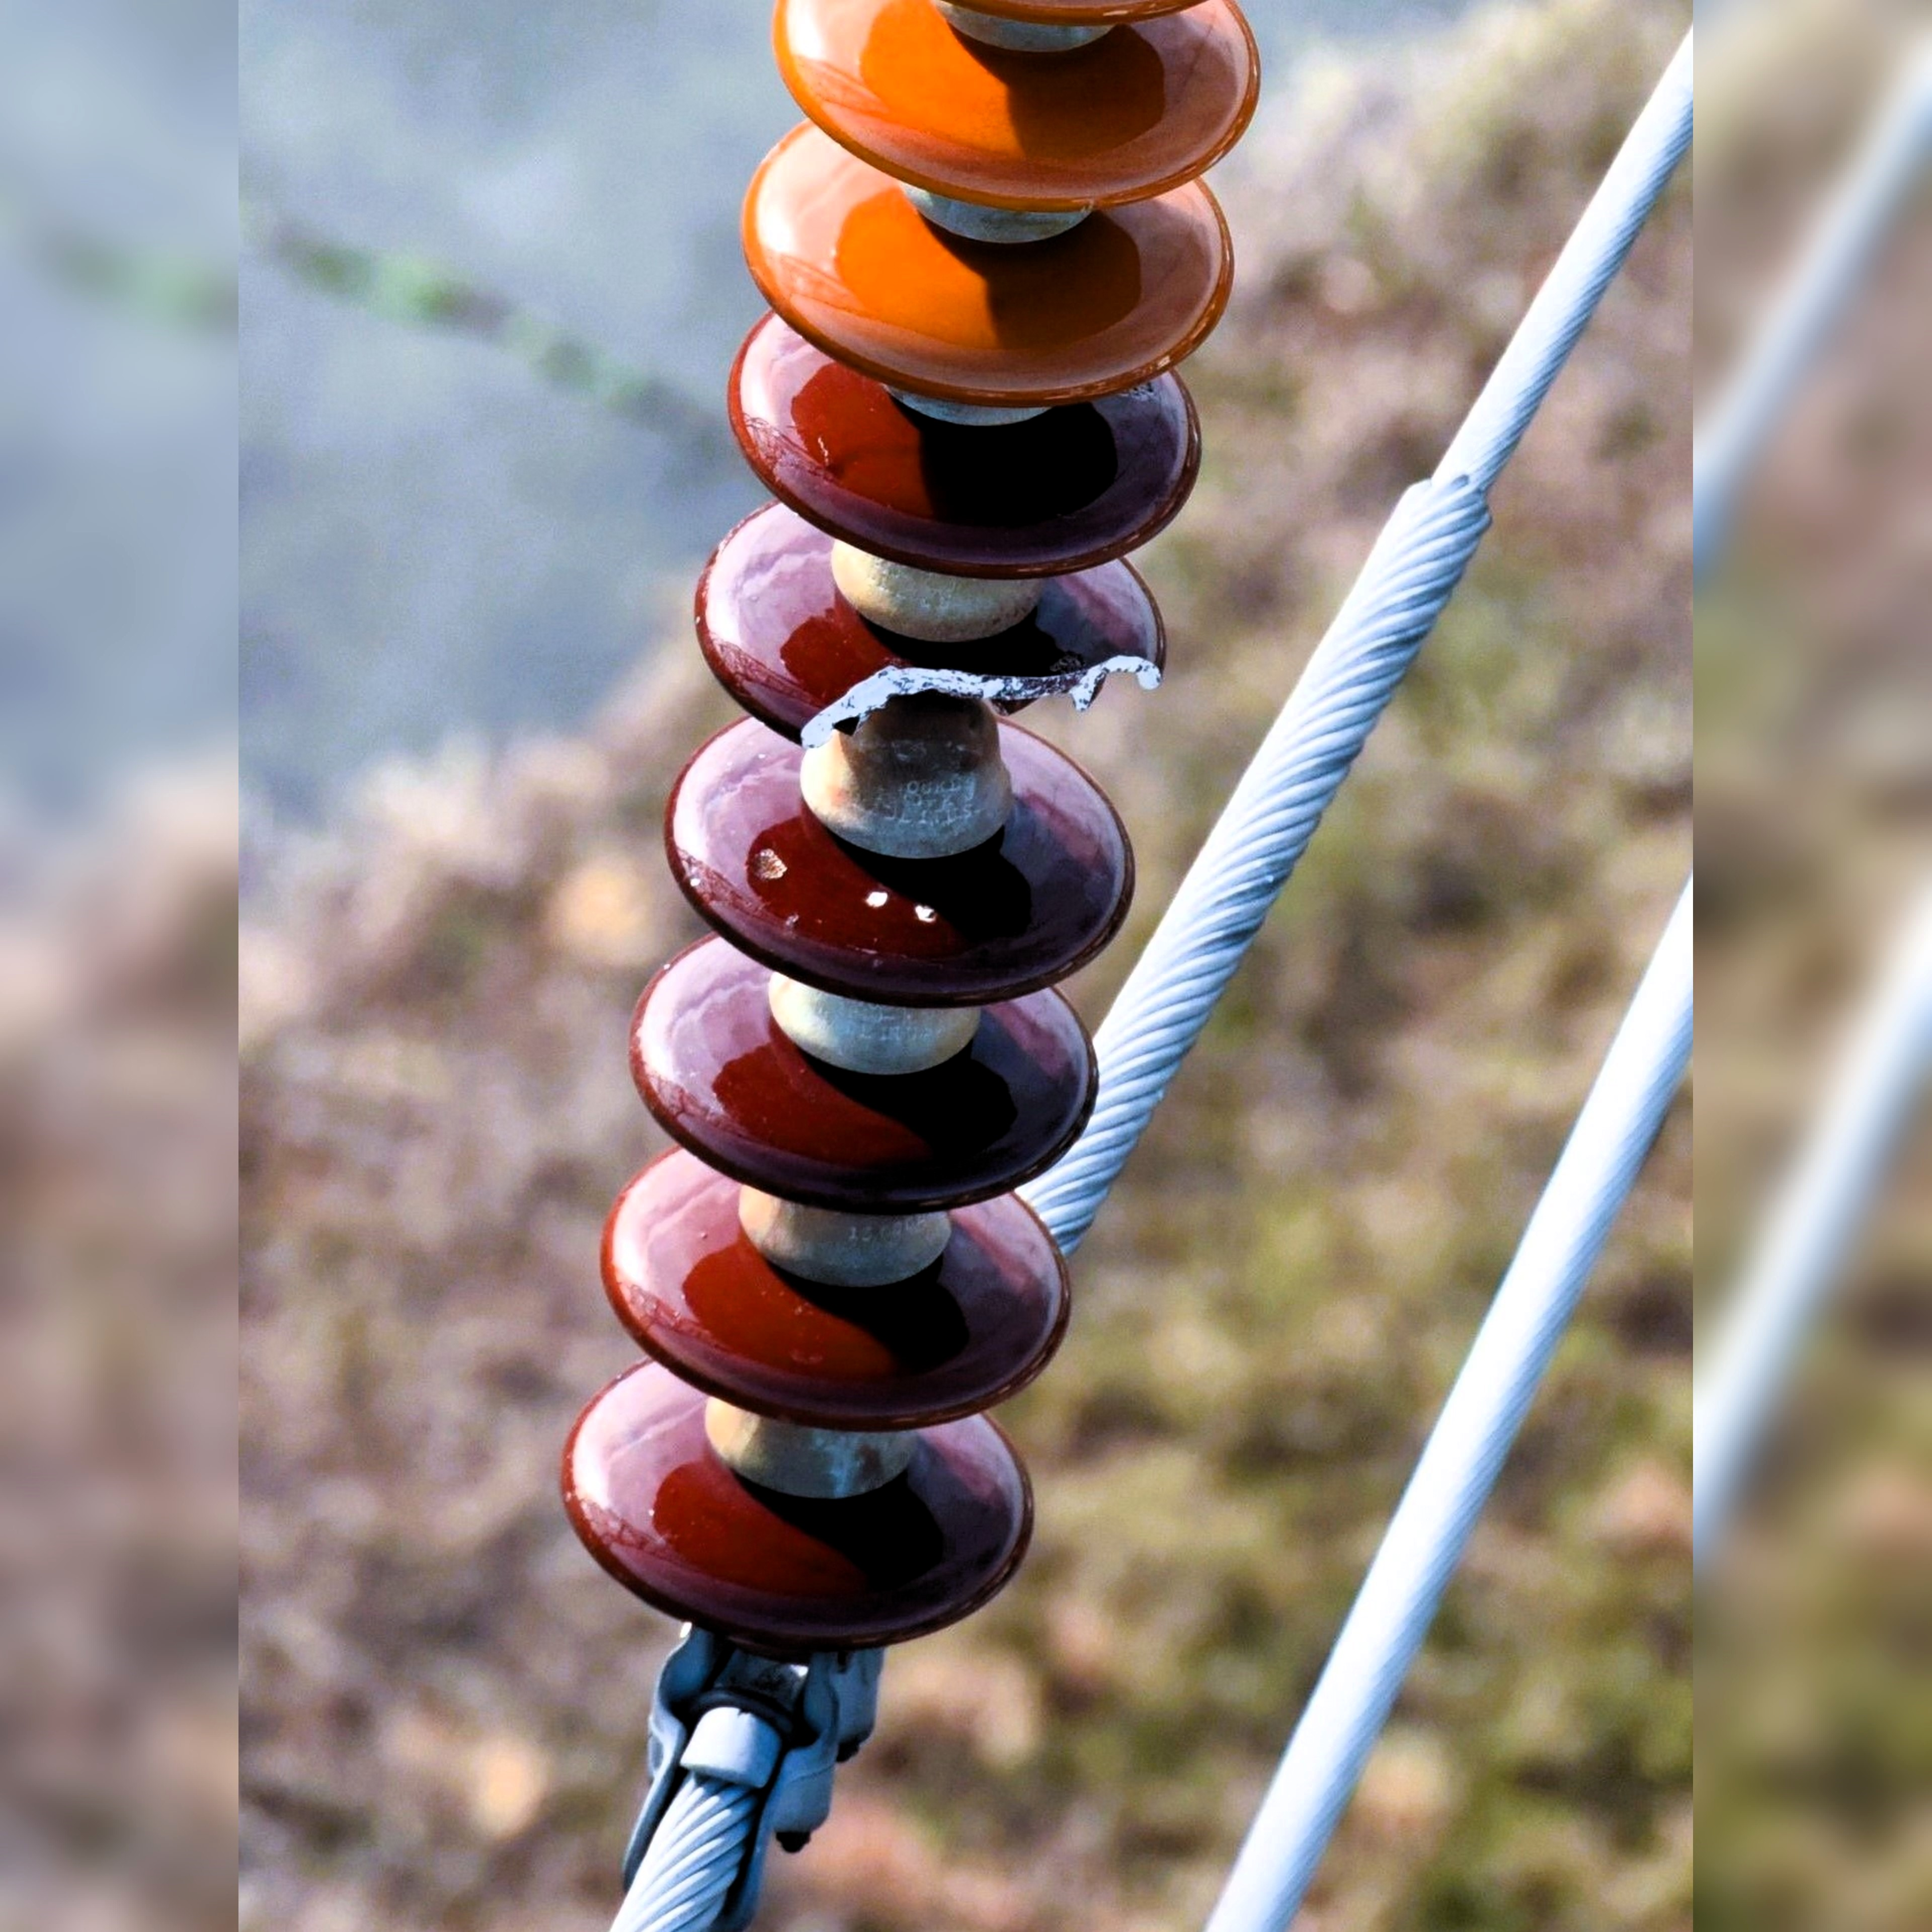insulator breakage: (646, 504, 1208, 766)
